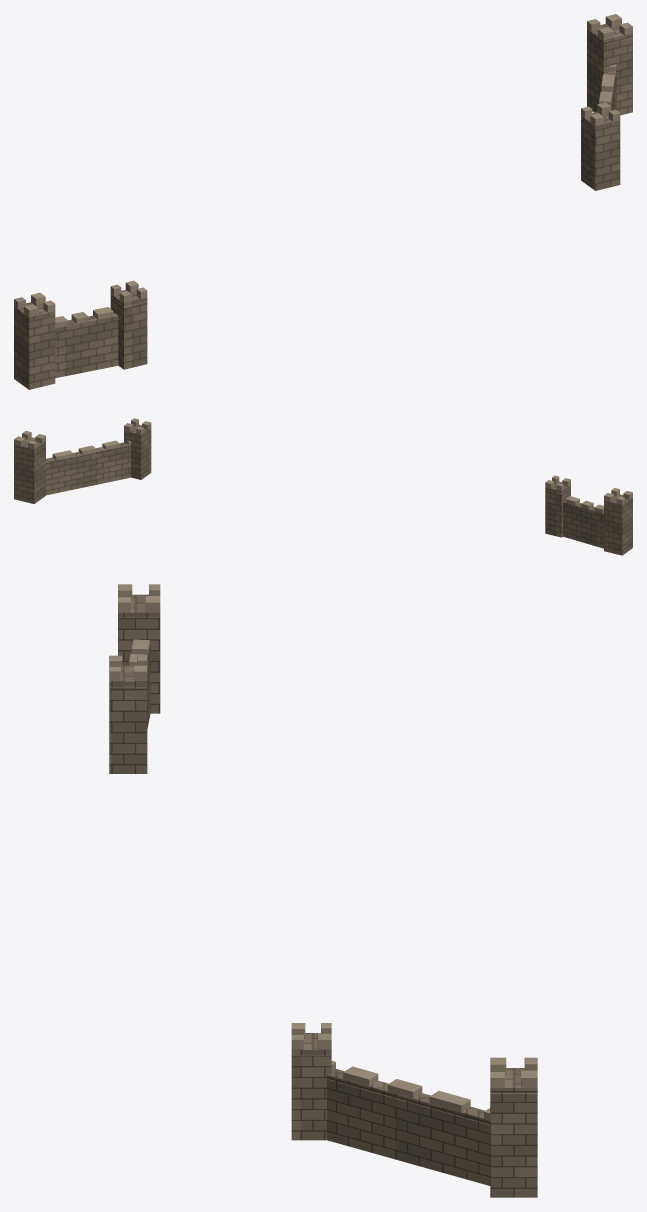
File: WallFamilyV1.glb
The picture shows the model from 3 angles, top to bottom: view 1: azimuth 30°, elevation 25°; view 2: azimuth 150°, elevation 25°; view 3: azimuth 270°, elevation 25°; orthographic projection. The views are drawn at different scales.
Parts seen in each view (by area): view 1: WestPartialWall, WestWallTowerA, EastWallTowerB, EastWallTowerA, WestWallTowerB, EastPartialWall; view 2: EastPartialWall, EastWallTowerB, WestWallTowerA, WestPartialWall, EastWallTowerA, WestWallTowerB; view 3: EastPartialWall, EastWallTowerB, WestWallTowerB, EastWallTowerA, WestWallTowerA.
Boxes of the visible parts, x1,y1,x2,y2 form: WestPartialWall: (55, 307, 118, 377); WestWallTowerA: (14, 292, 55, 389); EastWallTowerB: (587, 14, 632, 115); EastWallTowerA: (581, 102, 620, 190); WestWallTowerB: (110, 280, 147, 369); EastPartialWall: (599, 64, 616, 110); EastPartialWall: (46, 440, 130, 495); EastWallTowerB: (14, 431, 45, 503); WestWallTowerA: (604, 488, 632, 555); WestPartialWall: (563, 496, 603, 548); EastWallTowerA: (124, 418, 151, 479); WestWallTowerB: (545, 475, 570, 537); EastPartialWall: (327, 1061, 490, 1185); EastWallTowerB: (490, 1057, 537, 1197); WestWallTowerB: (109, 655, 147, 773); EastWallTowerA: (291, 1023, 331, 1140); WestWallTowerA: (118, 584, 160, 713).
Size of the model in its own units: 50.21 by 5.6 by 18.1.
5 materials, 5 textured.
